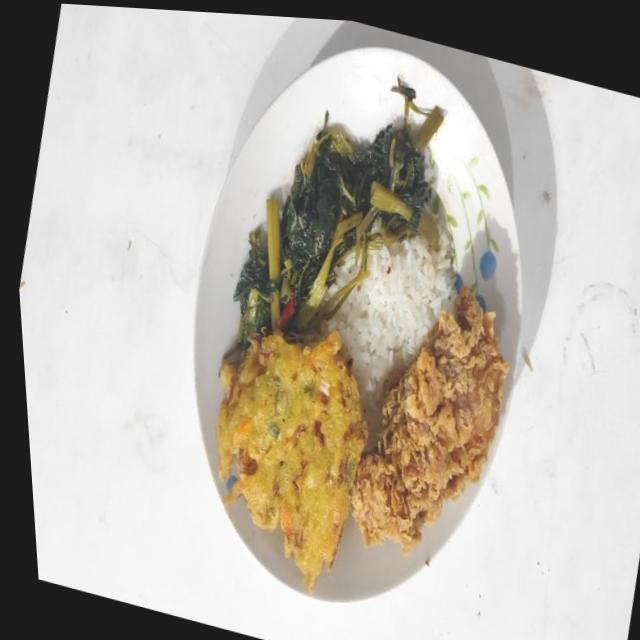nasi_putih: (326, 227, 456, 450)
tumis_kangkung: (224, 82, 444, 359)
